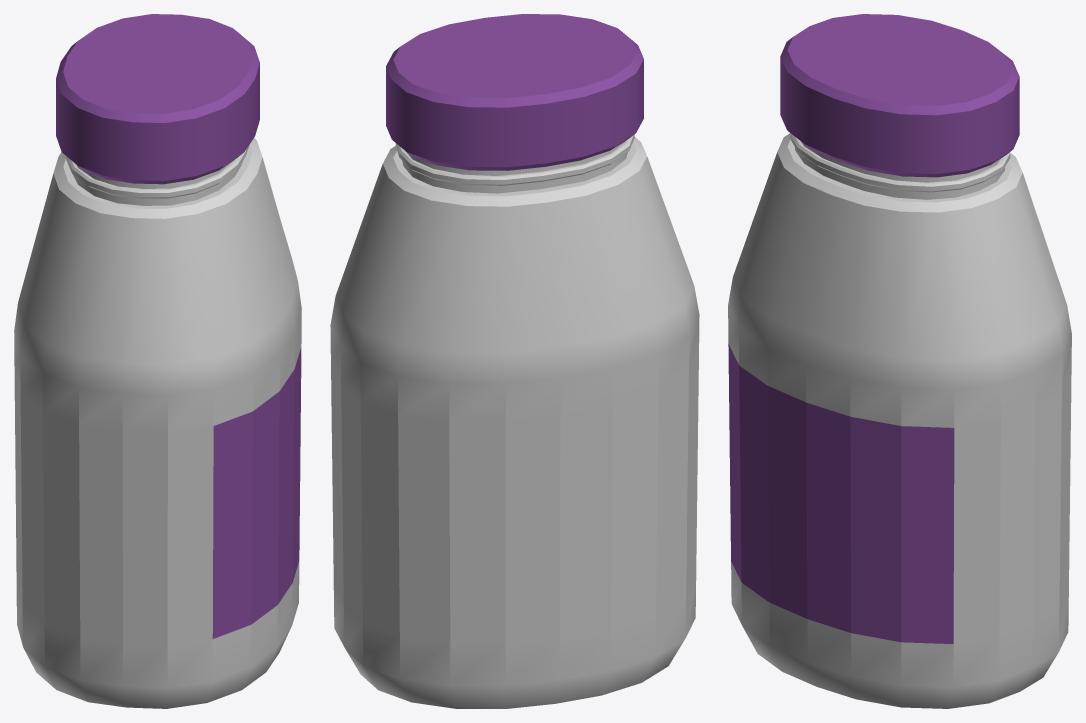
Rendered from Laxative_Bottle.fbx.
3 views of the same model, side by side, from view 1: azimuth 30°, elevation 25°; view 2: azimuth 150°, elevation 25°; view 3: azimuth 270°, elevation 25° (orthographic). The views are drawn at different scales.
Visible parts, largest first — view 1: pasted__pCylinder1; view 2: pasted__pCylinder1; view 3: pasted__pCylinder1.
Part boxes in pixels (left/top/right/bottom): pasted__pCylinder1: left=14, top=14, right=301, bottom=708; pasted__pCylinder1: left=330, top=14, right=699, bottom=708; pasted__pCylinder1: left=728, top=14, right=1071, bottom=708.
Size of the model in its own units: 0.2037 by 0.396 by 0.2103.
